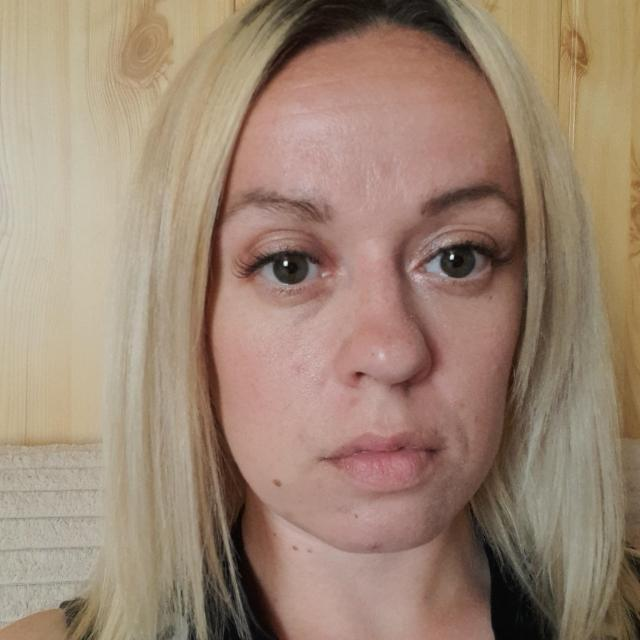Natural: (146, 106, 578, 543)
